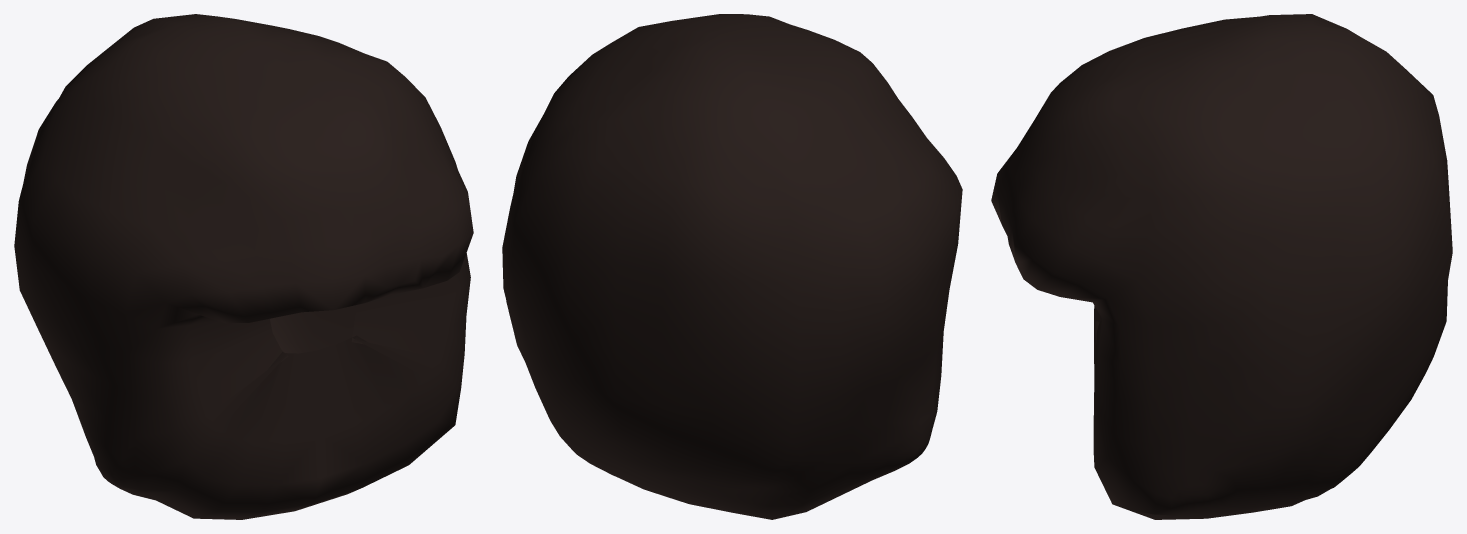
Rendered from Hair_4.fbx.
3 views of the same model, side by side, from view 1: azimuth 30°, elevation 25°; view 2: azimuth 150°, elevation 25°; view 3: azimuth 270°, elevation 25° (orthographic). The views are drawn at different scales.
Parts seen in each view (by area): view 1: hair_2_4; view 2: hair_2_4; view 3: hair_2_4.
Part boxes in pixels (x1,y1,x2,y2): hair_2_4: [14, 14, 473, 519]; hair_2_4: [502, 14, 962, 519]; hair_2_4: [991, 14, 1452, 519].
Size of the model in its own units: 34.51 by 38.16 by 34.76.
